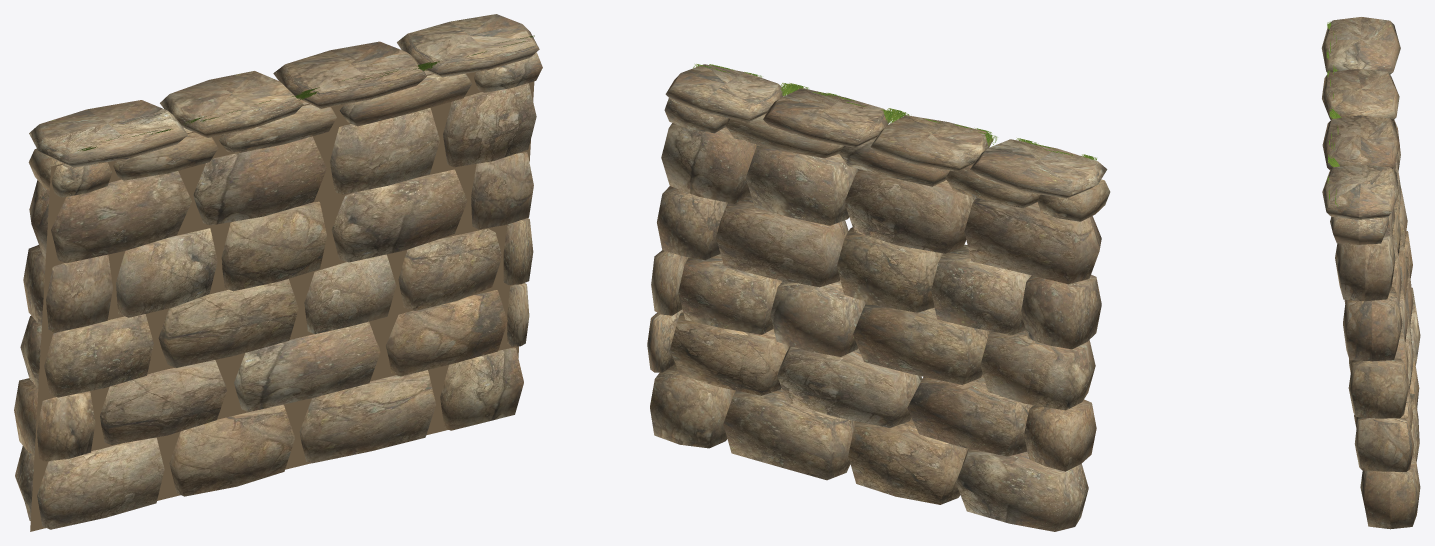
File: tier-wall.glb
3 views of the same model, side by side, from view 1: azimuth 30°, elevation 25°; view 2: azimuth 150°, elevation 25°; view 3: azimuth 270°, elevation 25° (orthographic). The views are drawn at different scales.
Parts seen in each view (by area): view 1: tier_wall_stone, tier_wall_plain; view 2: tier_wall_stone, tier_wall_grass; view 3: tier_wall_stone, tier_wall_grass.
Boxes of the visible parts, x1,y1,x2,y2 form: tier_wall_stone: [14, 14, 542, 529]; tier_wall_plain: [30, 72, 534, 531]; tier_wall_stone: [647, 64, 1110, 531]; tier_wall_grass: [693, 64, 1096, 160]; tier_wall_stone: [1321, 17, 1420, 529]; tier_wall_grass: [1326, 21, 1341, 206].
Size of the model in its own units: 4.1 by 3.15 by 1.86.
Materials: 3 (2 with a texture image).
